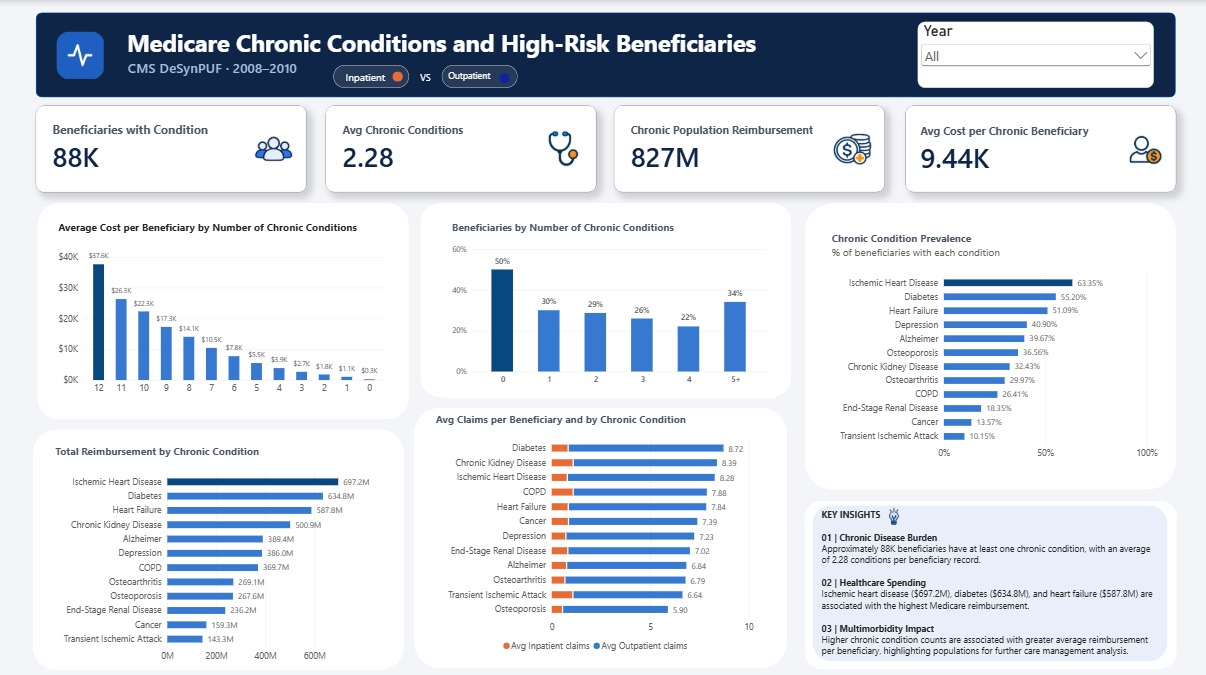

What the dashboard file says about the page in this screenshot:
{"tool":"powerbi","page":{"name":"Medicare Chronic Conditions and High-Risk Beneficiaries","canvas":[1920,1080],"ordinal":4},"visuals":[{"type":"shape","title":"Inpatient        ","box":[535,102.1,120,36],"z":0,"group":"g1"},{"type":"shape","box":[1281.2,793.8,591.2,267.5],"z":0},{"type":"shape","box":[62.5,20,1810,135],"z":1000},{"type":"shape","box":[629.6,112.2,17.1,16.6],"z":1000,"group":"g1"},{"type":"textbox","box":[113.2,41.8,1124.6,83.7],"z":2000},{"type":"textbox","box":[543.1,109,86.7,35.6],"z":2000,"group":"g1"},{"type":"image","box":[94,50,77.3,77.3],"z":3000},{"type":"shape","title":"Inpatient        ","box":[708.1,102.3,120,36],"z":3000,"group":"g1"},{"type":"shape","box":[797.3,114,17.1,16.6],"z":4000,"group":"g1"},{"type":"cardVisual","title":"tgg","fields":{"Data":["Chronic_Conditions.Beneficiaries with Condition"]},"box":[62,168,430,138.9],"z":4000},{"type":"textbox","box":[708.1,109,86.7,35.6],"z":5000,"group":"g1"},{"type":"cardVisual","title":"Chronic Population Reimbursement","fields":{"Data":["Chronic_Conditions.Chronic Population Reimbursement"]},"box":[980.3,168,430,138],"z":5000},{"type":"group","id":"g1","title":"Group 1","box":[535,102.1,294.3,42.9],"z":6000},{"type":"textbox","box":[665.6,112.7,31.2,26.2],"z":6000,"group":"g1"},{"type":"slicer","fields":{"Values":["Cleaned_Beneficiary_File.Year"]},"box":[1462.5,35,375,105],"z":7000},{"type":"shape","box":[64.3,323.4,590,344],"z":7000,"group":"g6"},{"type":"shape","box":[56.2,682.5,590,382.5],"z":8000},{"type":"cardVisual","title":"tgg","fields":{"Data":["Chronic_Conditions.Avg Cost per Chronic Beneficiary"]},"box":[1442.8,167.9,430,138],"z":9000},{"type":"cardVisual","title":"tgg","fields":{"Data":["Chronic_Conditions.Avg Chronic Conditions"]},"box":[520.9,168,430,138],"z":10000},{"type":"shape","box":[671.7,323.4,589.4,308.1],"z":10000,"group":"g4"},{"type":"group","id":"g2","title":"Group 3","box":[1283.2,323.4,590,455],"z":10000,"group":"g5"},{"type":"shape","box":[1283.2,323.4,590,455],"z":10000,"group":"g2"},{"type":"shape","box":[662.5,647.1,592.5,413.8],"z":10000,"group":"g3"},{"type":"group","id":"g3","title":"Group 3","box":[662.5,647.1,592.5,413.8],"z":11000},{"type":"barChart","title":".","fields":{"Category":["Chronic_Conditions.Chronic Condition"],"Y":["Chronic_Conditions.Avg Inpatient Claims per Beneficiary","Chronic_Conditions.Avg Outpatient Claims per Beneficiary"]},"box":[686.2,673.7,530.7,381.4],"z":12000},{"type":"group","id":"g4","title":"Group 3","box":[671.7,323.4,590,308.6],"z":13000,"group":"g7"},{"type":"textbox","box":[696.7,655,520,38.3],"z":13000},{"type":"group","id":"g5","title":"Group 2","box":[1283.2,323.4,588.7,454],"z":14000},{"type":"group","id":"g6","title":"Group 4","box":[64.3,323.4,590.8,344.1],"z":15000},{"type":"clusteredBarChart","title":"Chronic Condition Prevalence","fields":{"Category":["Chronic_Conditions.Chronic Condition"],"Y":["Chronic_Conditions.Condition Prevalence %"]},"box":[1310.7,352.8,550,398.3],"z":15000,"group":"g5"},{"type":"group","id":"g7","title":"Group 5","box":[671.7,323.4,590.8,308.9],"z":16000},{"type":"clusteredColumnChart","title":"Beneficiaries by Number of Chronic Conditions","fields":{"Category":["Cleaned_Beneficiary_File.Chronic Condition Group"],"Y":["Cleaned_Beneficiary_File.Beneficiary Distribution %"]},"box":[706.9,335.1,530.7,297.5],"z":16000,"group":"g7"},{"type":"clusteredColumnChart","title":"Average Cost per Beneficiary by Number of Chronic Conditions","fields":{"Category":["Cleaned_Beneficiary_File.Chronic_Condition_Count"],"Y":["Cleaned_claims_file.Average cost per beneficiary"]},"box":[80.9,335.1,549.4,313],"z":17000,"group":"g6"},{"type":"barChart","title":"Total Reimbursement by Chronic Condition","fields":{"Category":["Chronic_Conditions.Chronic Condition"],"Y":["Chronic_Conditions.Total Reimbursement by Condition"]},"box":[76.7,692.4,549.4,381.4],"z":17000},{"type":"shape","box":[1294,802,564,248],"z":18000},{"type":"textbox","box":[1310,808,527.2,243.7],"z":19000},{"type":"image","box":[1391.8,805.5,62.9,30],"z":20000}]}

Visuals, with their boxes in screenshot pixels (x1, y1, x2, y2), scaled from the page's 1920x1080 canvas onto the 1206x675 screenshot:
"Inpatient        " shape: pyautogui.locateOnScreen(336, 64, 411, 86)
shape: pyautogui.locateOnScreen(805, 496, 1176, 663)
shape: pyautogui.locateOnScreen(39, 12, 1176, 97)
shape: pyautogui.locateOnScreen(395, 70, 406, 80)
textbox: pyautogui.locateOnScreen(71, 26, 777, 78)
textbox: pyautogui.locateOnScreen(341, 68, 396, 90)
image: pyautogui.locateOnScreen(59, 31, 108, 80)
"Inpatient        " shape: pyautogui.locateOnScreen(445, 64, 520, 86)
shape: pyautogui.locateOnScreen(501, 71, 512, 82)
"tgg" cardVisual: pyautogui.locateOnScreen(39, 105, 309, 192)
textbox: pyautogui.locateOnScreen(445, 68, 499, 90)
"Chronic Population Reimbursement" cardVisual: pyautogui.locateOnScreen(616, 105, 886, 191)
"Group 1" group: pyautogui.locateOnScreen(336, 64, 521, 91)
textbox: pyautogui.locateOnScreen(418, 70, 438, 87)
slicer - Cleaned_Beneficiary_File.Year: pyautogui.locateOnScreen(919, 22, 1154, 88)
shape: pyautogui.locateOnScreen(40, 202, 411, 417)
shape: pyautogui.locateOnScreen(35, 427, 406, 666)
"tgg" cardVisual: pyautogui.locateOnScreen(906, 105, 1176, 191)
"tgg" cardVisual: pyautogui.locateOnScreen(327, 105, 597, 191)
shape: pyautogui.locateOnScreen(422, 202, 792, 395)
"Group 3" group: pyautogui.locateOnScreen(806, 202, 1177, 486)
shape: pyautogui.locateOnScreen(806, 202, 1177, 486)
shape: pyautogui.locateOnScreen(416, 404, 788, 663)
"Group 3" group: pyautogui.locateOnScreen(416, 404, 788, 663)
"." barChart: pyautogui.locateOnScreen(431, 421, 764, 659)
"Group 3" group: pyautogui.locateOnScreen(422, 202, 793, 395)
textbox: pyautogui.locateOnScreen(438, 409, 764, 433)
"Group 2" group: pyautogui.locateOnScreen(806, 202, 1176, 486)
"Group 4" group: pyautogui.locateOnScreen(40, 202, 411, 417)
"Chronic Condition Prevalence" clusteredBarChart: pyautogui.locateOnScreen(823, 220, 1169, 469)
"Group 5" group: pyautogui.locateOnScreen(422, 202, 793, 395)
"Beneficiaries by Number of Chronic Conditions" clusteredColumnChart: pyautogui.locateOnScreen(444, 209, 777, 395)
"Average Cost per Beneficiary by Number of Chronic Conditions" clusteredColumnChart: pyautogui.locateOnScreen(51, 209, 396, 405)
"Total Reimbursement by Chronic Condition" barChart: pyautogui.locateOnScreen(48, 433, 393, 671)
shape: pyautogui.locateOnScreen(813, 501, 1167, 656)
textbox: pyautogui.locateOnScreen(823, 505, 1154, 657)
image: pyautogui.locateOnScreen(874, 503, 914, 522)
